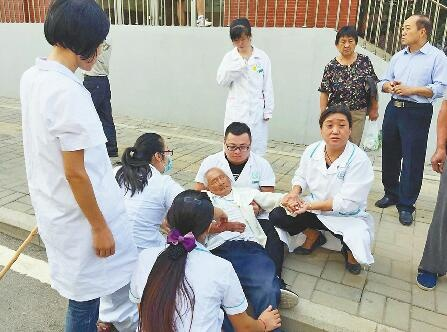falling: (189, 180, 303, 328)
